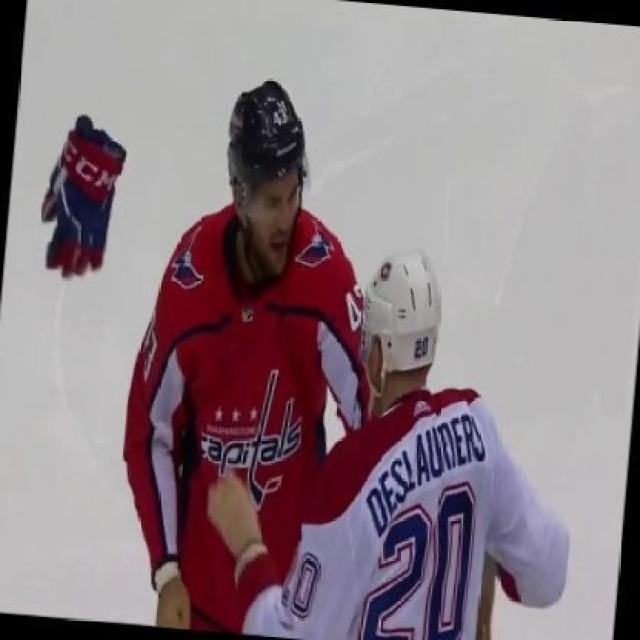fight: (74, 75, 563, 638)
